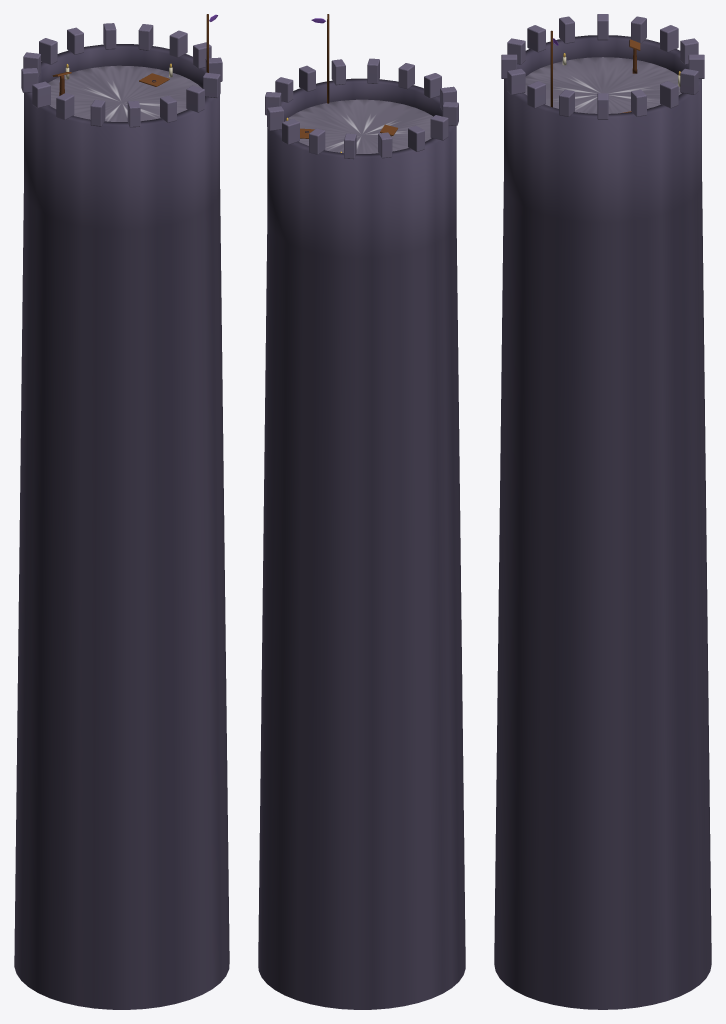
Rendered from tower_top.glb.
3 renders of one model, left to right at view 1: azimuth 30°, elevation 25°; view 2: azimuth 150°, elevation 25°; view 3: azimuth 270°, elevation 25°, orthographic. The views are drawn at different scales.
Visible parts, largest first — view 1: tower_top; view 2: tower_top; view 3: tower_top.
Boxes of the visible parts, <box> form: tower_top: <box>14,14,229,1009</box>; tower_top: <box>258,14,465,1009</box>; tower_top: <box>494,14,711,1009</box>.
Bounding box in the file's own units: 6.8 × 33.2 × 6.8.
